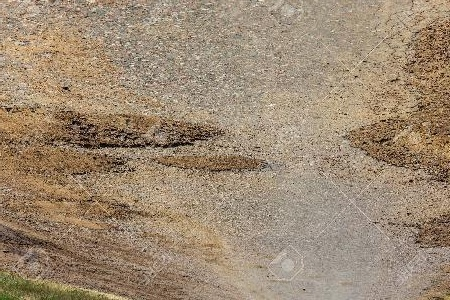pothole: (340, 107, 449, 185), (48, 105, 222, 152), (153, 153, 270, 175), (410, 211, 450, 251)
